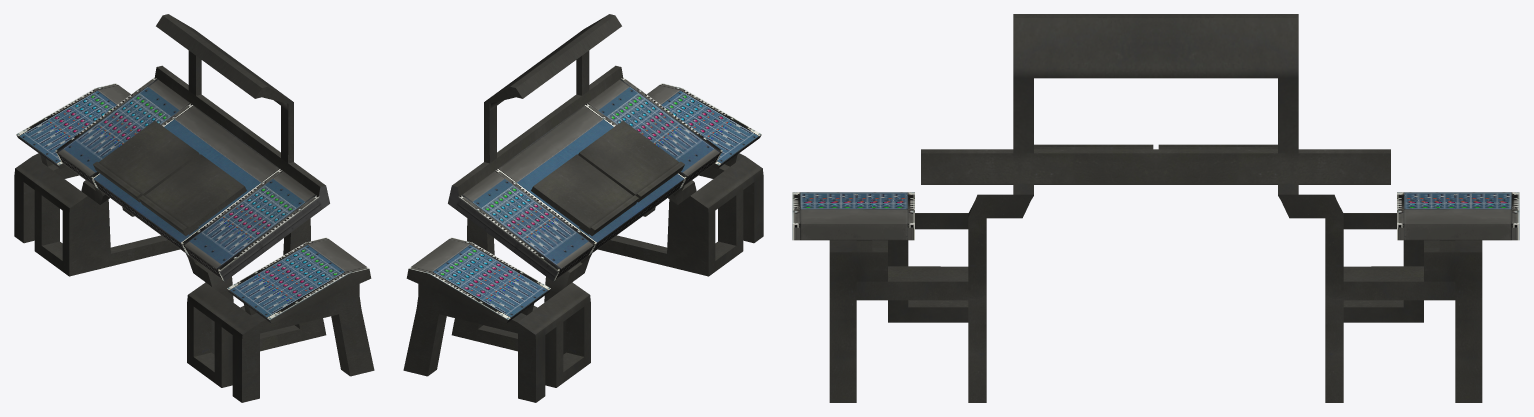
The model's file is ISAResistanceDeskStraight.fbx.
3 renders of one model, left to right at view 1: azimuth 30°, elevation 25°; view 2: azimuth 150°, elevation 25°; view 3: azimuth 270°, elevation 25°, orthographic. The views are drawn at different scales.
Visible parts, largest first — view 1: ISAResistanceDeskStraight; view 2: ISAResistanceDeskStraight; view 3: ISAResistanceDeskStraight.
Part boxes in pixels (x1,y1,x2,y2): ISAResistanceDeskStraight: (14, 14, 374, 402); ISAResistanceDeskStraight: (403, 14, 763, 402); ISAResistanceDeskStraight: (792, 14, 1519, 402).
Size of the model in its own units: 77.93 by 139 by 258.
Materials: 1 (1 with a texture image).
